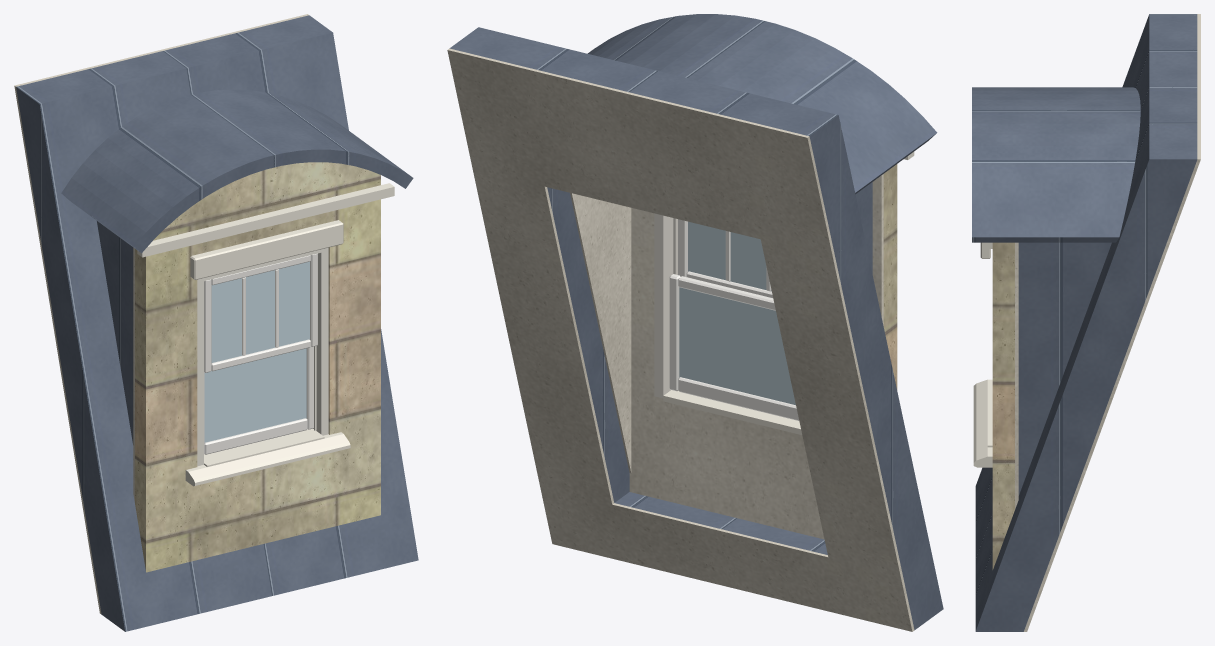
Rendered from mansard_dormer.glb.
The picture shows the model from 3 angles, left to right: view 1: azimuth 30°, elevation 25°; view 2: azimuth 150°, elevation 25°; view 3: azimuth 270°, elevation 25°; orthographic projection. The views are drawn at different scales.
Parts seen in each view (by area): view 1: mansard_dormer_zinc, mansard_dormer_ashlar, mansard_dormer_glass, mansard_dormer_trim, mansard_dormer_sash, mansard_dormer_frame, mansard_dormer_plaster; view 2: mansard_dormer_plaster, mansard_dormer_zinc, mansard_dormer_glass, mansard_dormer_sash, mansard_dormer_frame, mansard_dormer_ashlar, mansard_dormer_trim; view 3: mansard_dormer_zinc, mansard_dormer_ashlar, mansard_dormer_plaster, mansard_dormer_trim.
Part boxes in pixels (x1=…): mansard_dormer_zinc: x1=16, y1=15, x2=418, y2=631; mansard_dormer_ashlar: x1=135, y1=162, x2=380, y2=572; mansard_dormer_glass: x1=204, y1=261, x2=309, y2=442; mansard_dormer_trim: x1=137, y1=183, x2=394, y2=486; mansard_dormer_sash: x1=204, y1=253, x2=317, y2=454; mansard_dormer_frame: x1=197, y1=247, x2=328, y2=466; mansard_dormer_plaster: x1=14, y1=14, x2=308, y2=614; mansard_dormer_plaster: x1=447, y1=48, x2=914, y2=631; mansard_dormer_zinc: x1=449, y1=14, x2=943, y2=630; mansard_dormer_glass: x1=679, y1=221, x2=795, y2=405; mansard_dormer_sash: x1=669, y1=219, x2=799, y2=420; mansard_dormer_frame: x1=654, y1=213, x2=677, y2=398; mansard_dormer_ashlar: x1=883, y1=164, x2=897, y2=389; mansard_dormer_trim: x1=663, y1=151, x2=914, y2=434; mansard_dormer_zinc: x1=972, y1=14, x2=1197, y2=631; mansard_dormer_ashlar: x1=992, y1=242, x2=1014, y2=569; mansard_dormer_plaster: x1=1015, y1=14, x2=1200, y2=631; mansard_dormer_trim: x1=973, y1=242, x2=992, y2=467.
Size of the model in its own units: 2 by 3.03 by 1.33.
Materials: 7 (3 with a texture image).
